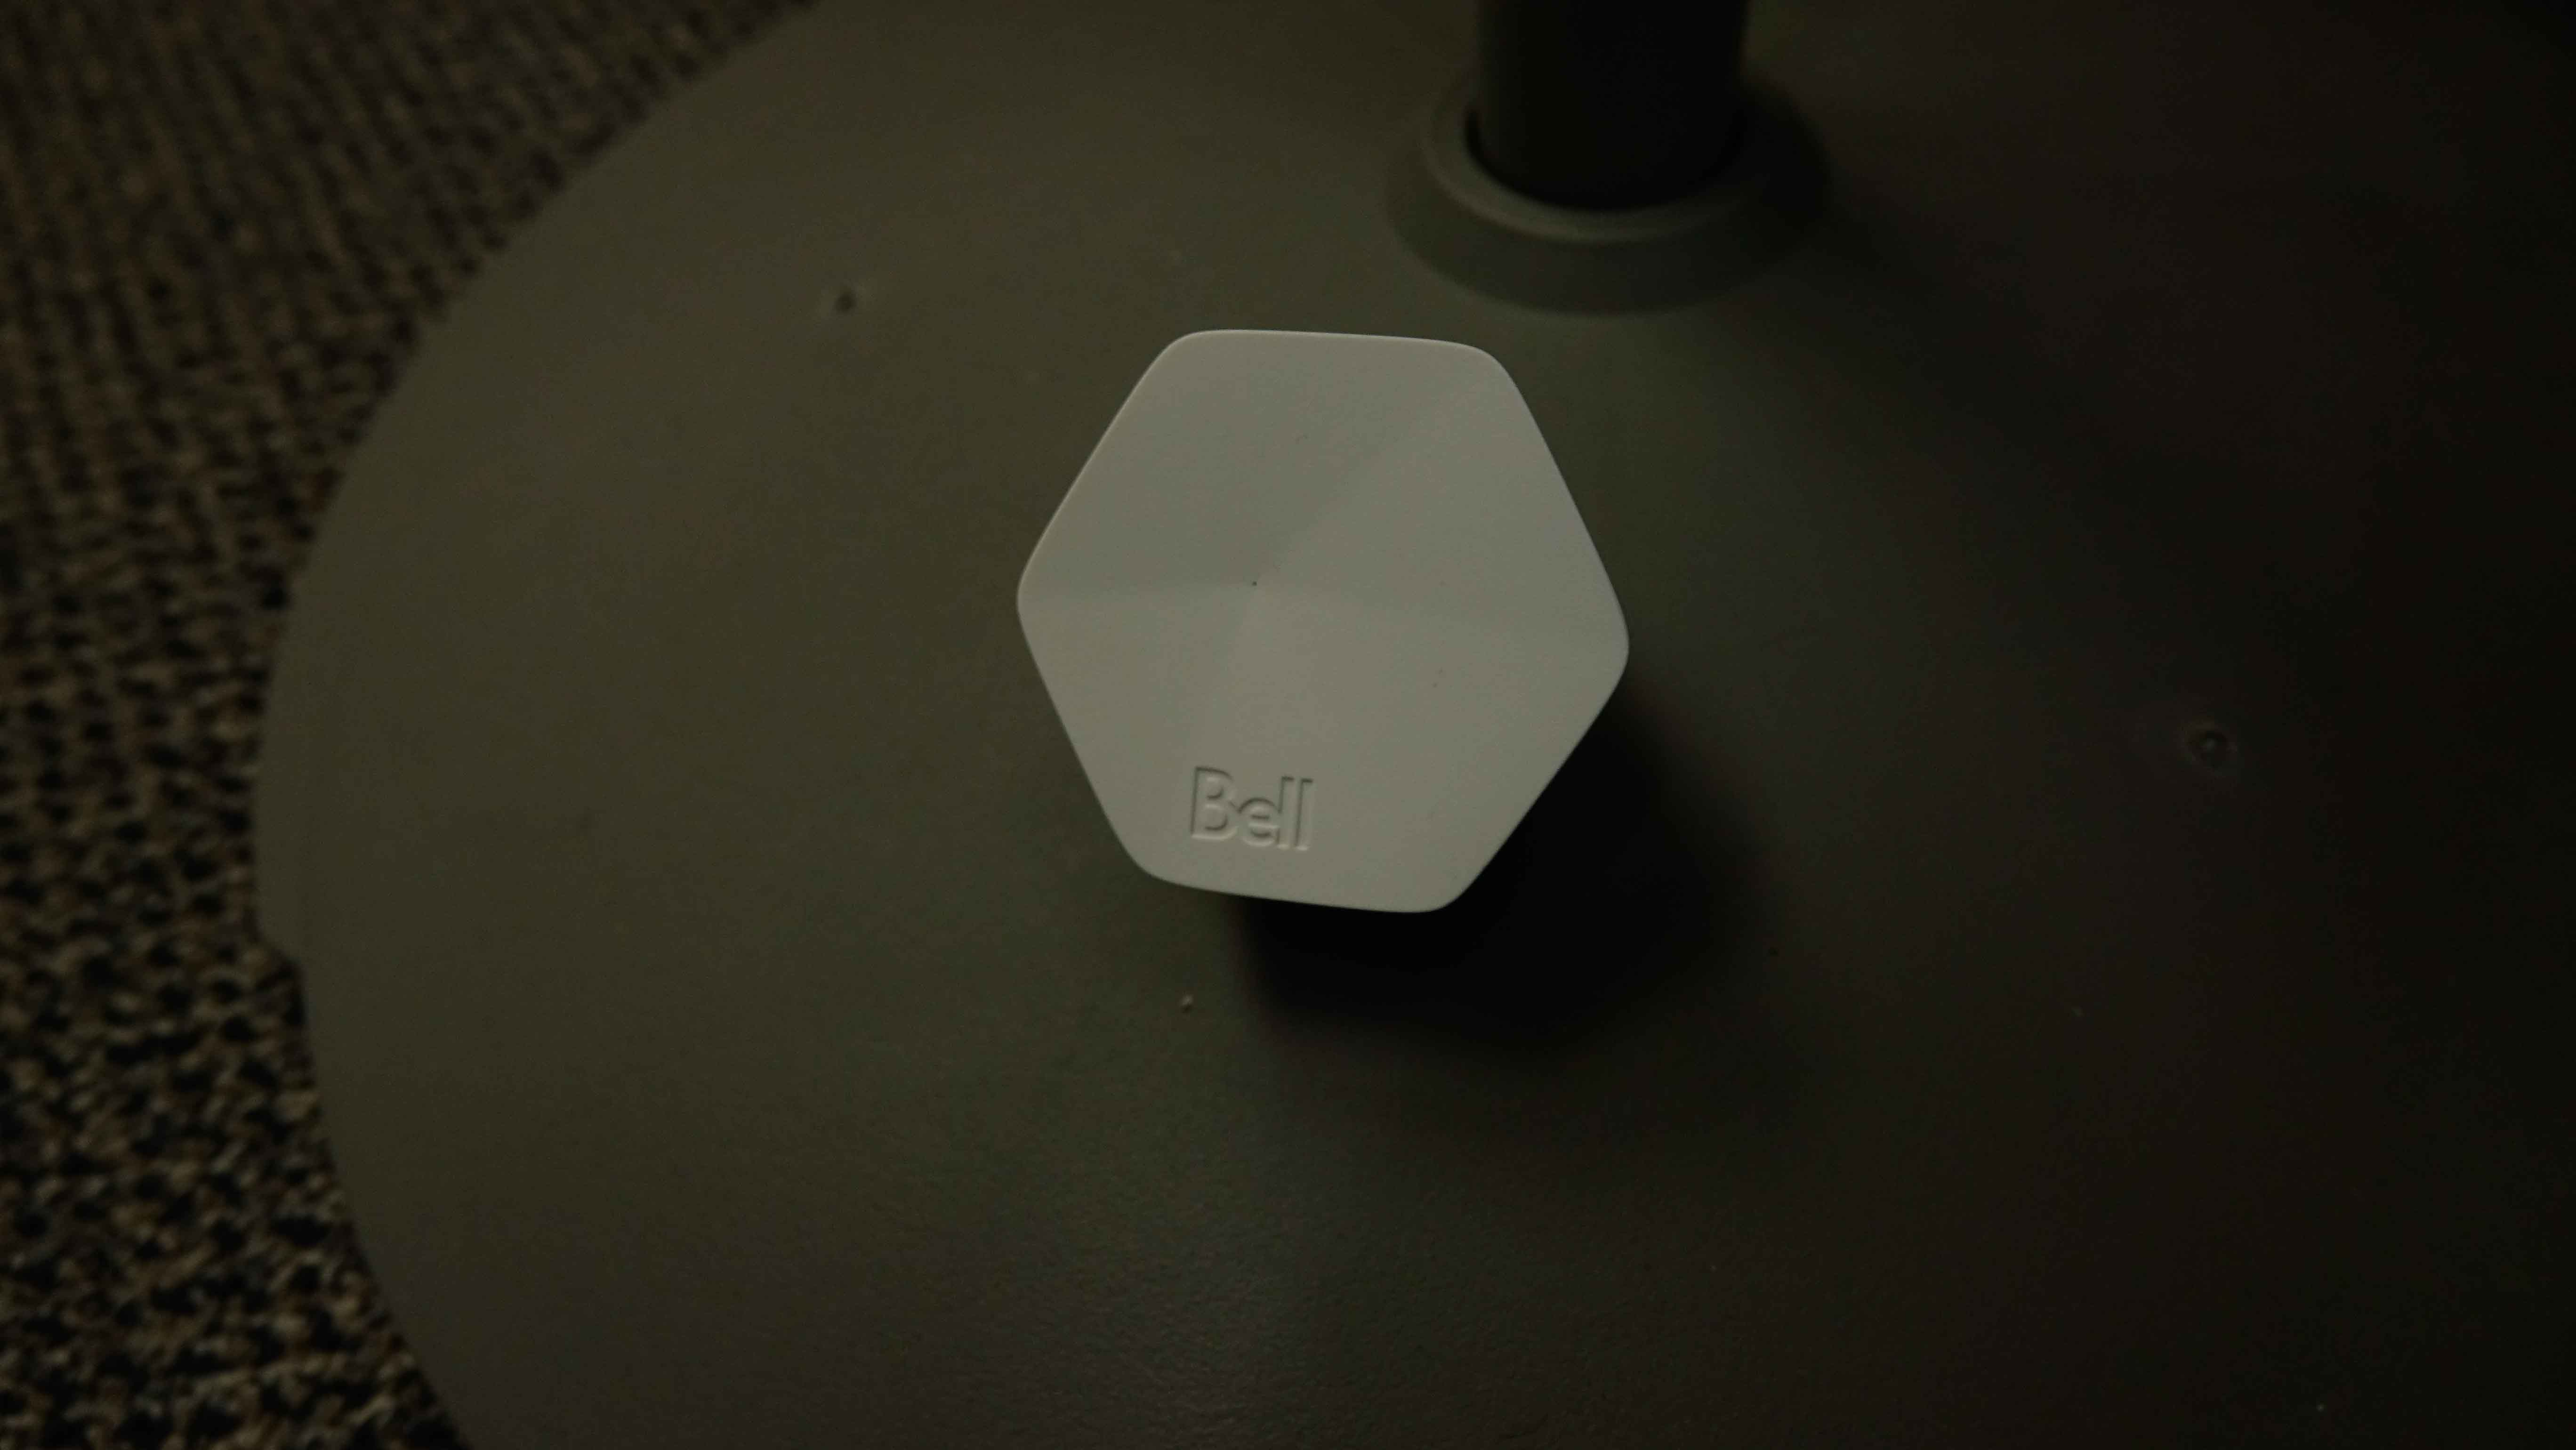pod: (1014, 311, 1642, 939)
